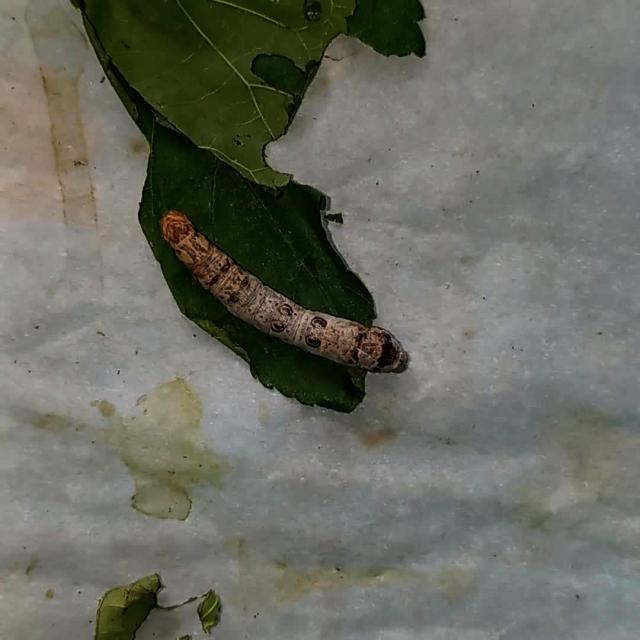Grasserie: (151, 180, 468, 408)
